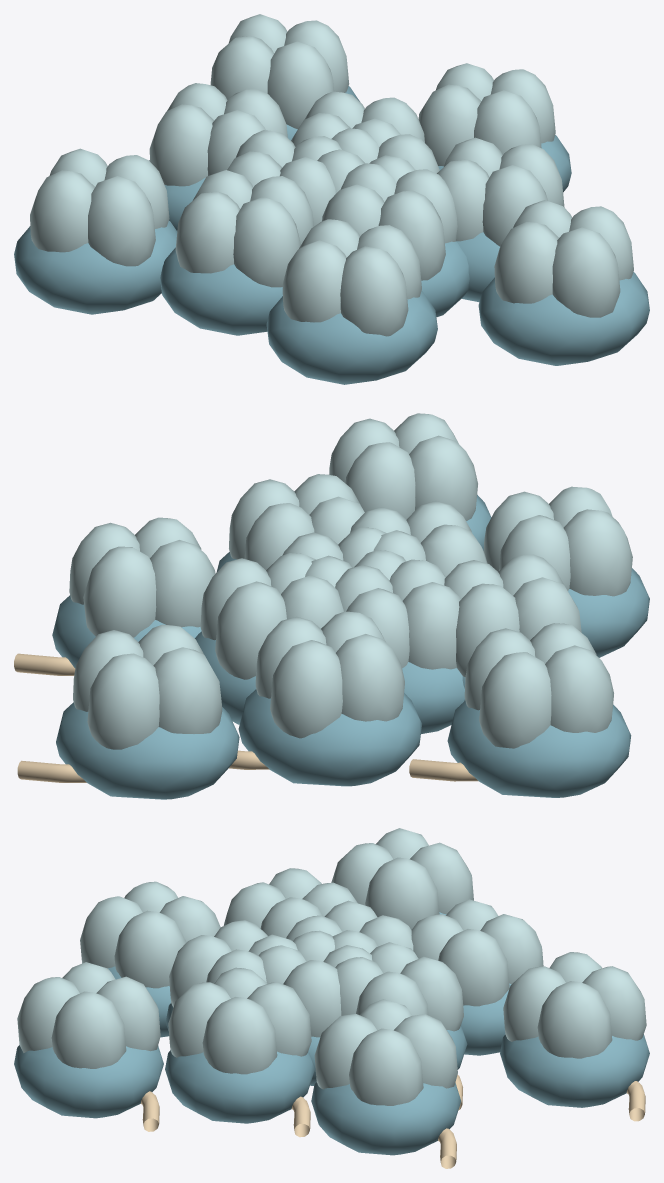
File: bio_oxygen_reef_11_far.glb
The picture shows the model from 3 angles, top to bottom: view 1: azimuth 30°, elevation 25°; view 2: azimuth 150°, elevation 25°; view 3: azimuth 270°, elevation 25°; orthographic projection. The views are drawn at different scales.
Visible parts, largest first — view 1: Lobed gas sac.040, Lobed gas sac.028, Lobed gas sac.036, Lobed gas sac.016, Lobed gas sac.044, Lobed gas sac.032, Photosynthetic cushion.007, Photosynthetic cushion.010, Lobed gas sac.024, Lobed gas sac.020, Photosynthetic cushion.009, Lobed gas sac.008 (+8 smaller); view 2: Lobed gas sac.024, Lobed gas sac.036, Lobed gas sac.044, Lobed gas sac.032, Lobed gas sac.040, Lobed gas sac.028, Photosynthetic cushion.011, Lobed gas sac.012, Photosynthetic cushion.009, Photosynthetic cushion.006, Lobed gas sac.004, Lobed gas sac.016 (+11 smaller); view 3: Lobed gas sac.020, Lobed gas sac.044, Lobed gas sac.040, Lobed gas sac.032, Lobed gas sac.028, Lobed gas sac.036, Lobed gas sac.024, Photosynthetic cushion.011, Photosynthetic cushion.008, Photosynthetic cushion.005, Photosynthetic cushion.010, Lobed gas sac.012 (+10 smaller).
Part boxes in pixels (<box>): Lobed gas sac.040: <box>494,200,633,317</box>; Lobed gas sac.028: <box>282,219,421,336</box>; Lobed gas sac.036: <box>30,148,169,266</box>; Lobed gas sac.016: <box>175,170,313,287</box>; Lobed gas sac.044: <box>210,14,349,129</box>; Lobed gas sac.032: <box>418,63,555,166</box>; Photosynthetic cushion.007: <box>266,291,437,384</box>; Photosynthetic cushion.010: <box>478,272,649,365</box>; Lobed gas sac.024: <box>149,83,287,186</box>; Lobed gas sac.020: <box>437,137,564,246</box>; Photosynthetic cushion.009: <box>14,221,177,314</box>; Lobed gas sac.008: <box>322,163,457,280</box>; Lobed gas sac.024: <box>255,611,404,738</box>; Lobed gas sac.036: <box>464,623,613,748</box>; Lobed gas sac.044: <box>73,624,222,749</box>; Lobed gas sac.032: <box>69,517,215,637</box>; Lobed gas sac.040: <box>329,413,477,520</box>; Lobed gas sac.028: <box>483,486,632,596</box>; Photosynthetic cushion.011: <box>56,702,239,799</box>; Lobed gas sac.012: <box>200,553,343,679</box>; Photosynthetic cushion.009: <box>447,701,631,797</box>; Photosynthetic cushion.006: <box>238,689,421,786</box>; Lobed gas sac.004: <box>335,559,460,669</box>; Lobed gas sac.016: <box>444,554,581,676</box>; Lobed gas sac.020: <box>168,967,311,1074</box>; Lobed gas sac.044: <box>503,952,646,1058</box>; Lobed gas sac.040: <box>17,962,160,1068</box>; Lobed gas sac.032: <box>314,999,457,1105</box>; Lobed gas sac.028: <box>80,881,220,988</box>; Lobed gas sac.036: <box>331,828,473,929</box>; Lobed gas sac.024: <box>411,899,543,1006</box>; Photosynthetic cushion.011: <box>500,1034,649,1107</box>; Photosynthetic cushion.008: <box>311,1082,461,1155</box>; Photosynthetic cushion.005: <box>165,1050,314,1123</box>; Photosynthetic cushion.010: <box>14,1045,163,1118</box>; Lobed gas sac.012: <box>335,942,463,1031</box>.
Size of the model in its own units: 1.85 by 0.4497 by 2.03.
